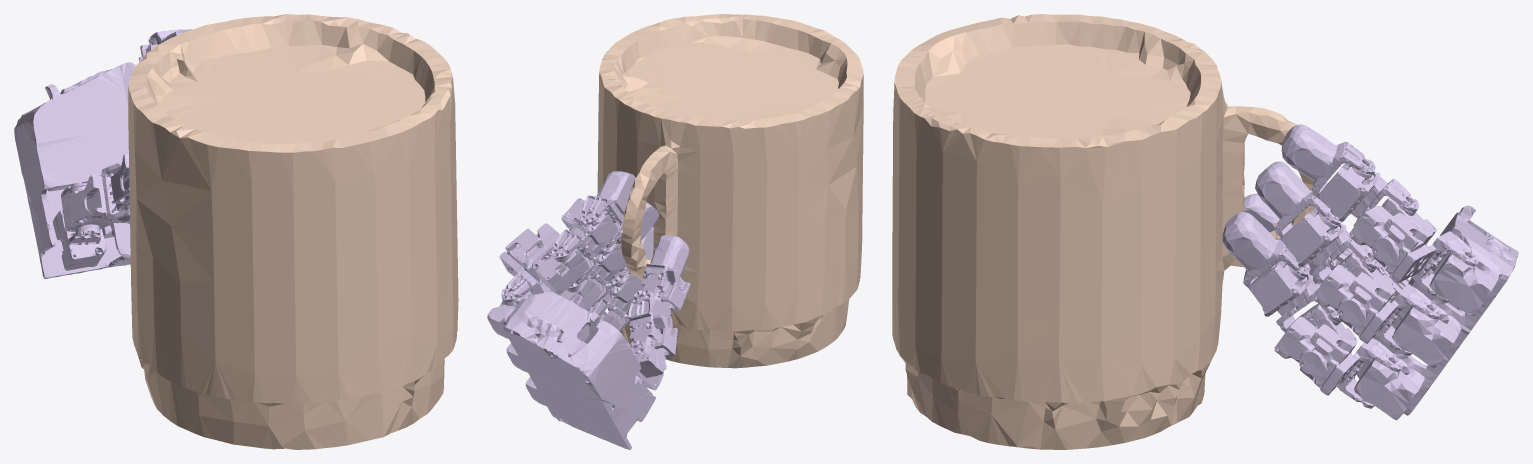
File: 38fc6b9fa70c49-closed.glb
3 views of the same model, side by side, from view 1: azimuth 30°, elevation 25°; view 2: azimuth 150°, elevation 25°; view 3: azimuth 270°, elevation 25° (orthographic). The views are drawn at different scales.
Visible parts, largest first — view 1: world, LEAP_hand; view 2: world, LEAP_hand; view 3: world, LEAP_hand.
Boxes of the visible parts, x1,y1,x2,y2 form: world: [128, 14, 458, 449]; LEAP_hand: [14, 29, 191, 278]; world: [597, 14, 863, 368]; LEAP_hand: [487, 171, 690, 449]; world: [892, 14, 1327, 449]; LEAP_hand: [1222, 124, 1518, 419].
Bounding box in the file's own units: 0.2095 × 0.2252 × 0.3954.
